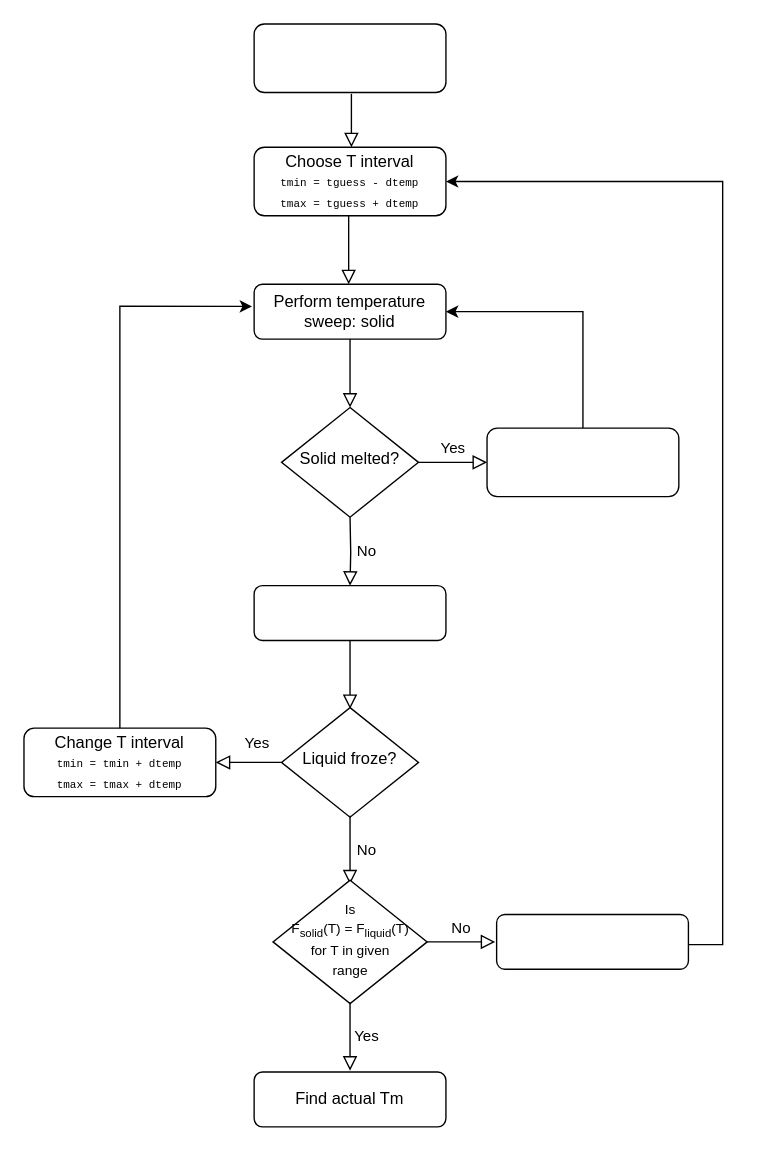
The diagram is 758 pixels wide and 1151 high, and some of its shapes have lost their labels. Here are the shapes that lost their labels. From the top down, the box of each, then its label:
(253, 23, 446, 92): Guess T m Experimental T m or keyword tguess
(486, 427, 679, 497): Change T interval tmin = tmin - dtemp tmax = tmax - dtemp
(253, 584, 446, 640): Perform temperature sweep: liquid
(495, 913, 688, 969): Extrapolate F to find T at F solid (T) = F liquid (T)
